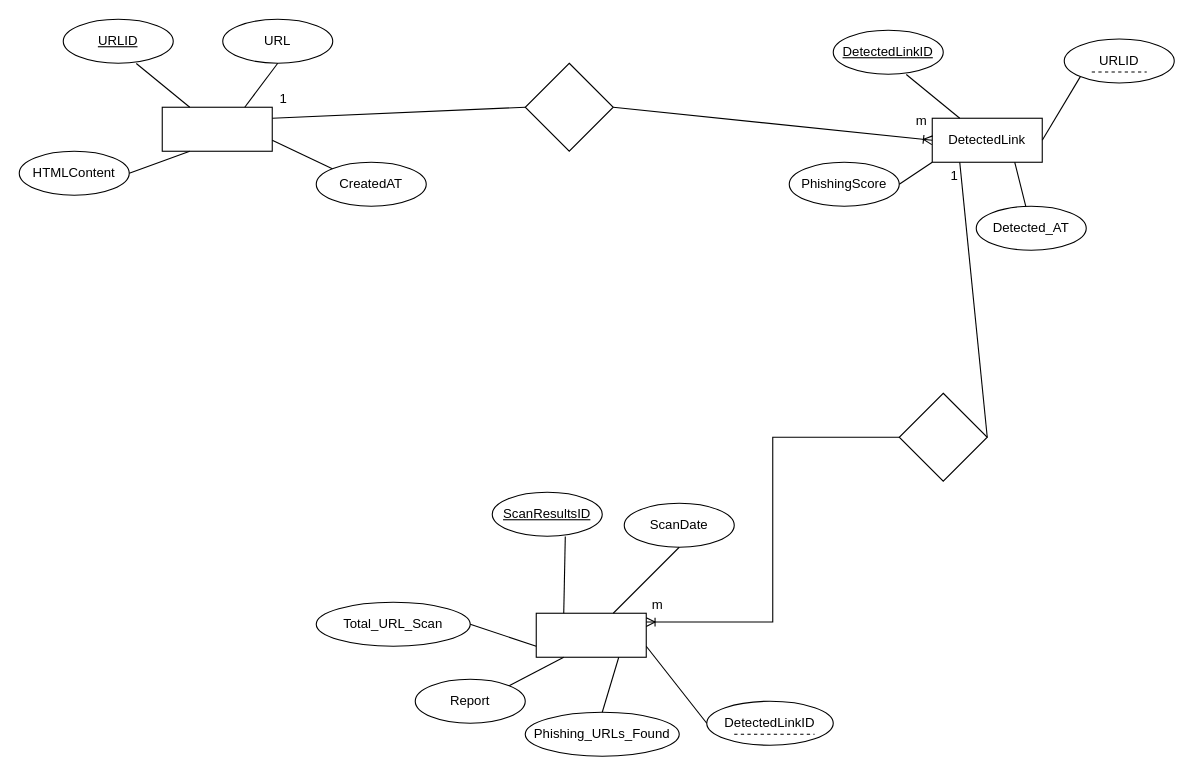
Image size: 1194x776. Some labels were removed from this diagram. The centre of each missing label's shape, as x and y in pixels:
"detects" belongs at [568,106].
"generates" belongs at [942,436].
"ScanResults" belongs at [590,634].
"URLs" belongs at [216,128].
